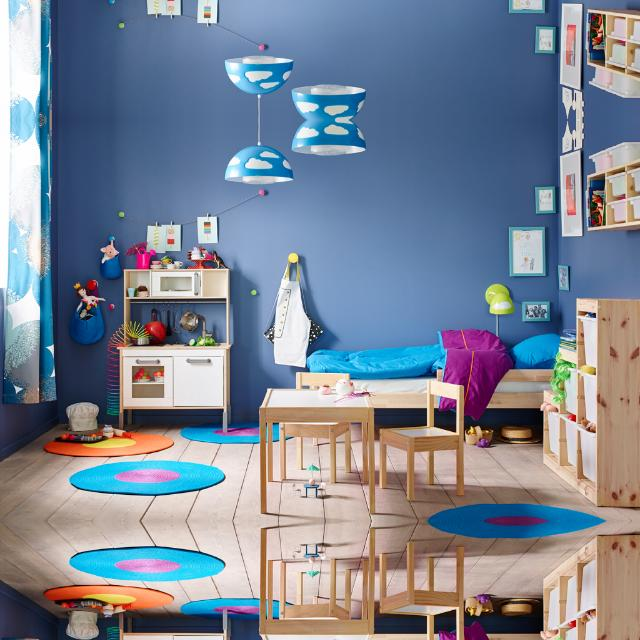obstacle: (531, 284, 640, 502), (113, 253, 240, 433), (256, 386, 378, 516), (256, 526, 377, 640), (378, 378, 468, 502), (531, 540, 640, 640), (377, 538, 468, 640), (112, 608, 239, 640)
